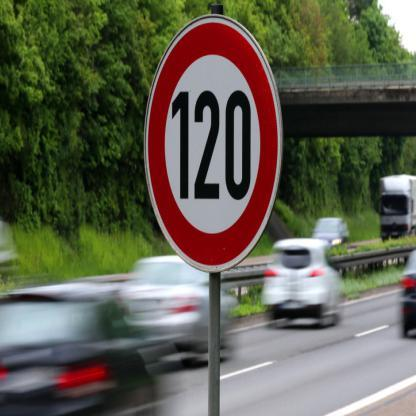Speed Limit 120: (144, 15, 284, 271)
